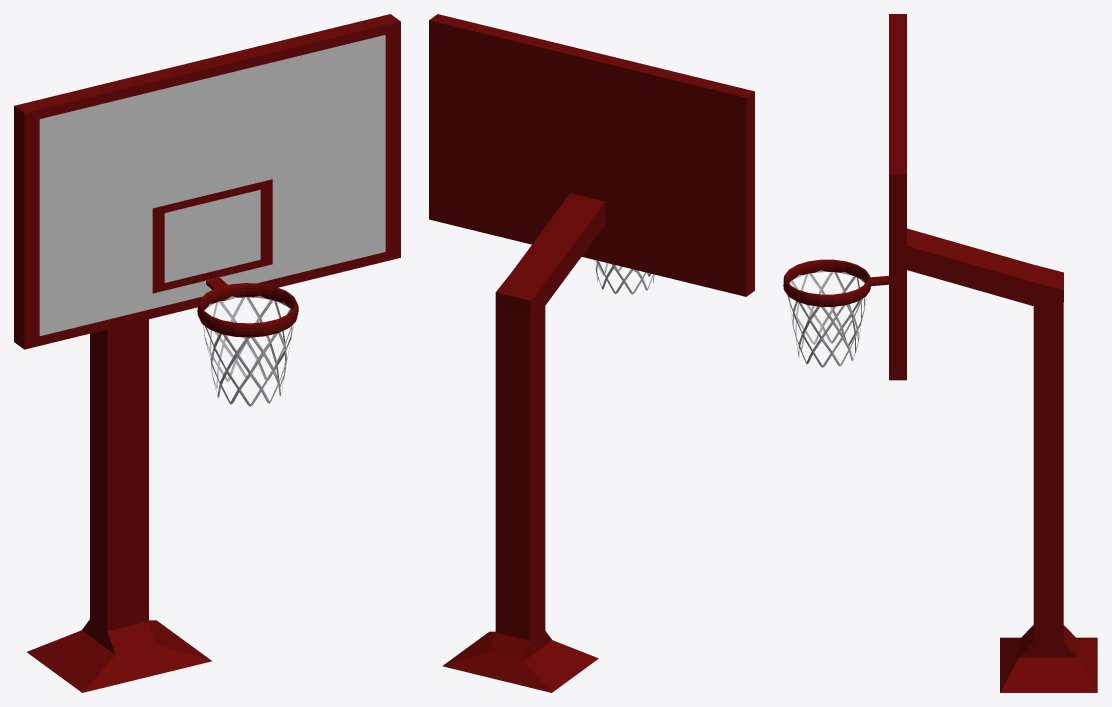
The model's file is basketBall panel_me.obj.
3 renders of one model, left to right at view 1: azimuth 30°, elevation 25°; view 2: azimuth 150°, elevation 25°; view 3: azimuth 270°, elevation 25°, orthographic. The views are drawn at different scales.
Visible parts, largest first — view 1: Cube, Torus.001, Torus.006; view 2: Cube, Torus.001; view 3: Cube, Torus.001, Torus.006.
Boxes of the visible parts, box(x1,y1,x2,y2) form: Cube: box(14, 14, 400, 692); Torus.001: box(203, 295, 293, 406); Torus.006: box(197, 277, 298, 337); Cube: box(429, 14, 754, 692); Torus.001: box(594, 260, 654, 294); Cube: box(889, 14, 1097, 692); Torus.001: box(787, 270, 866, 367); Torus.006: box(783, 259, 888, 306).
Bounding box in the file's own units: 7.55 × 12.57 × 6.25.
